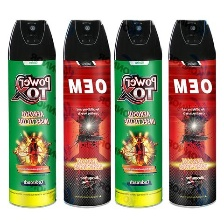aerosol_cans: (6, 15, 59, 209), (113, 17, 166, 209), (167, 15, 219, 209), (61, 16, 112, 210)
